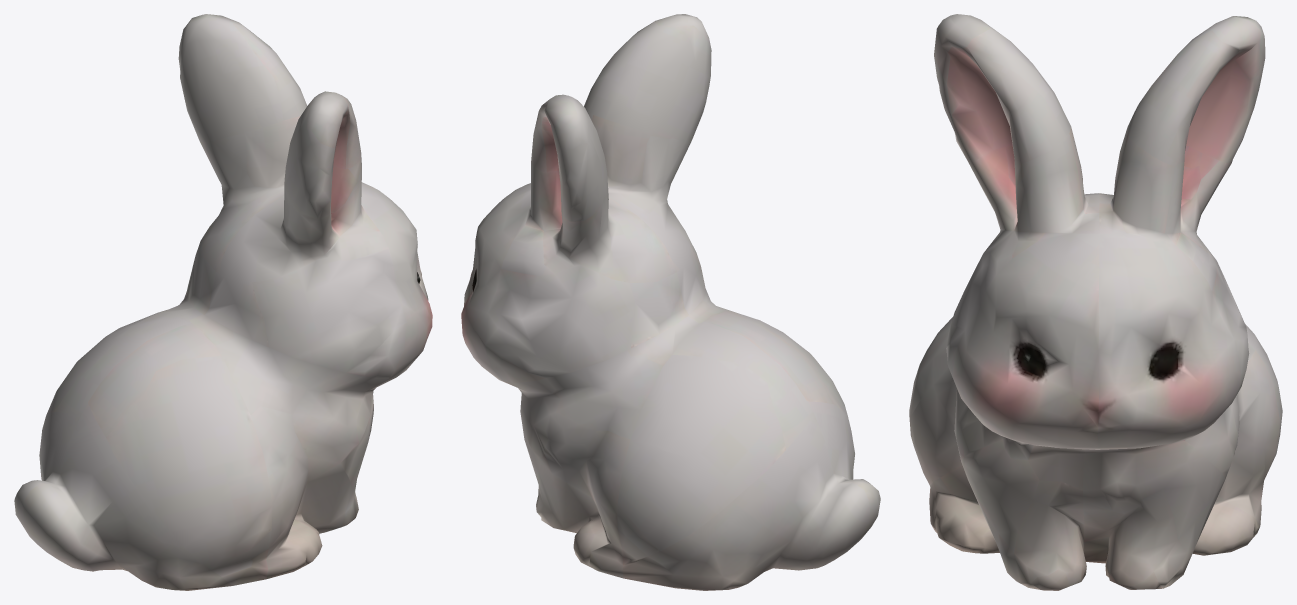
Rendered from rabbit.glb.
3 renders of one model, left to right at view 1: azimuth 30°, elevation 25°; view 2: azimuth 150°, elevation 25°; view 3: azimuth 270°, elevation 25°, orthographic. The views are drawn at different scales.
Parts seen in each view (by area): view 1: tripo_node_789427a4-2d0e-4015-a746-5ddd19120357; view 2: tripo_node_789427a4-2d0e-4015-a746-5ddd19120357; view 3: tripo_node_789427a4-2d0e-4015-a746-5ddd19120357.
Part boxes in pixels (x1,y1,x2,y2): tripo_node_789427a4-2d0e-4015-a746-5ddd19120357: [14, 14, 432, 590]; tripo_node_789427a4-2d0e-4015-a746-5ddd19120357: [461, 14, 880, 590]; tripo_node_789427a4-2d0e-4015-a746-5ddd19120357: [909, 14, 1282, 590].
Size of the model in its own units: 0.9003 by 0.9999 by 0.6205.
Materials: 1 (1 with a texture image).
